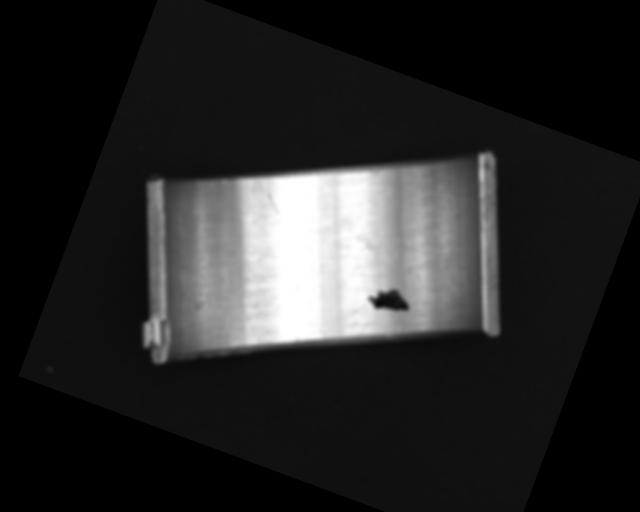blot: (344, 231, 408, 280), (363, 279, 415, 322)
bruise: (371, 165, 381, 176), (292, 334, 301, 343)
nick: (252, 175, 290, 215)
